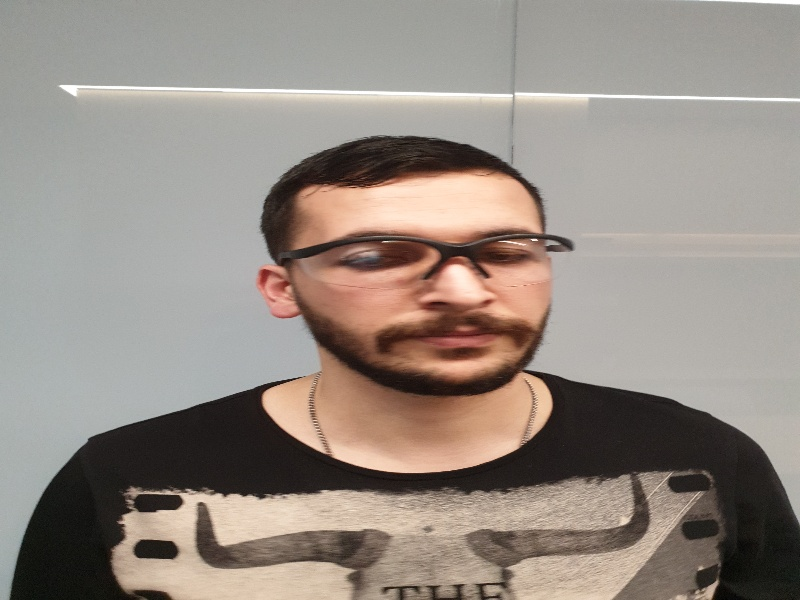Gozluk: (280, 232, 577, 287)
